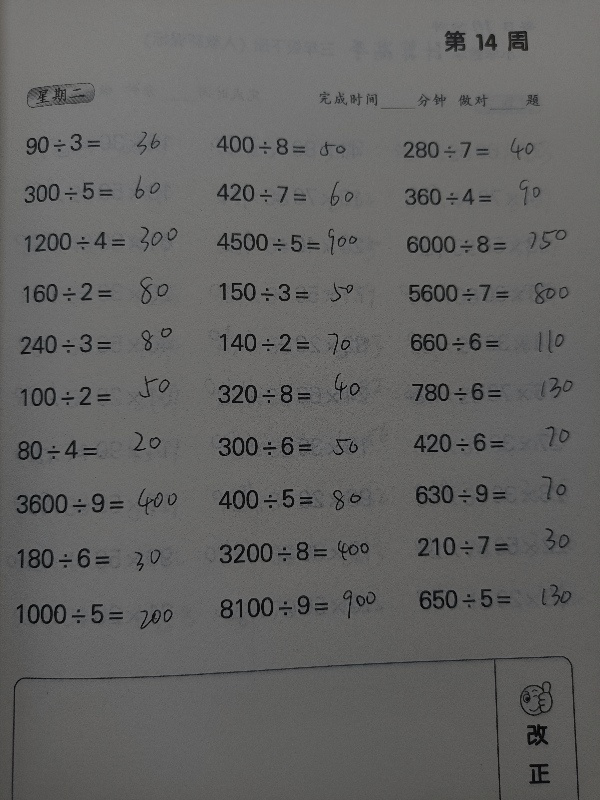equation: (209, 221, 389, 263), (8, 596, 188, 632), (211, 588, 391, 624), (10, 540, 190, 576), (210, 533, 390, 569), (7, 485, 187, 521), (209, 427, 389, 463), (409, 581, 589, 616), (209, 481, 389, 516), (9, 433, 189, 468), (11, 326, 191, 361), (408, 528, 588, 562), (406, 476, 586, 510), (404, 425, 584, 459), (11, 379, 191, 413), (210, 377, 390, 411), (212, 326, 392, 360), (402, 325, 582, 359), (211, 275, 391, 309), (14, 275, 194, 309), (15, 174, 195, 208), (403, 375, 583, 408), (400, 277, 580, 310), (398, 228, 578, 261), (15, 224, 195, 257), (208, 177, 388, 210), (208, 129, 388, 162), (17, 126, 197, 159), (397, 181, 577, 213), (395, 134, 575, 166)
